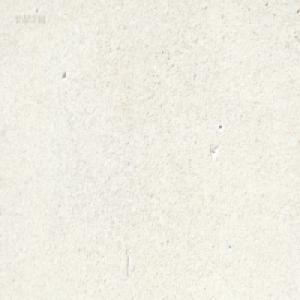Wrench: (121, 0, 127, 4)
